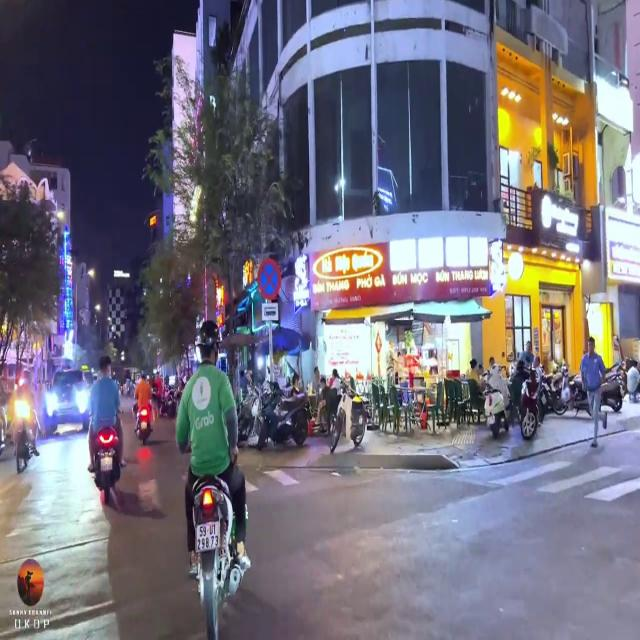bien_trang: (194, 521, 222, 550)
